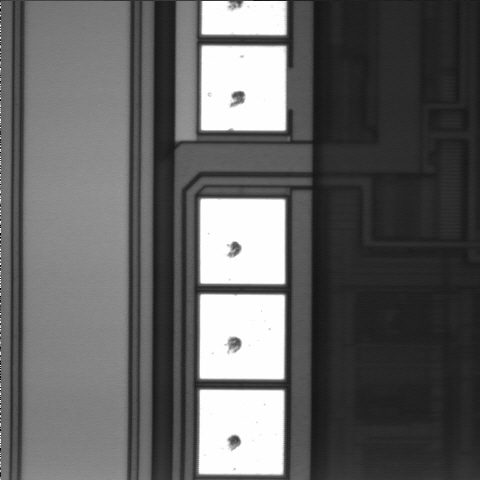pad: (201, 46, 286, 131), (200, 199, 285, 284), (200, 294, 285, 379), (199, 390, 284, 475)
